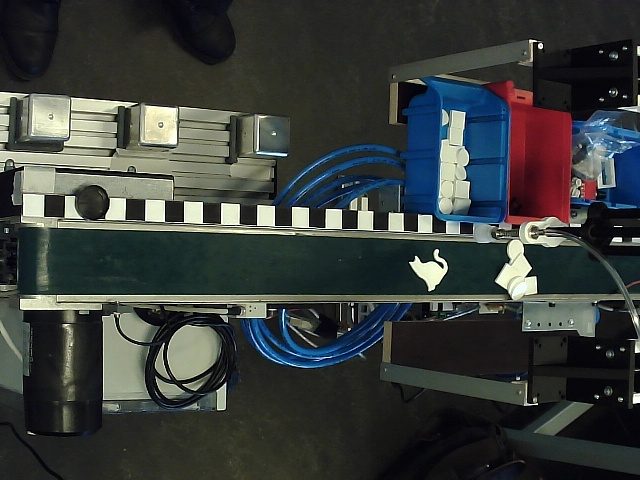cat: (408, 247, 449, 293)
